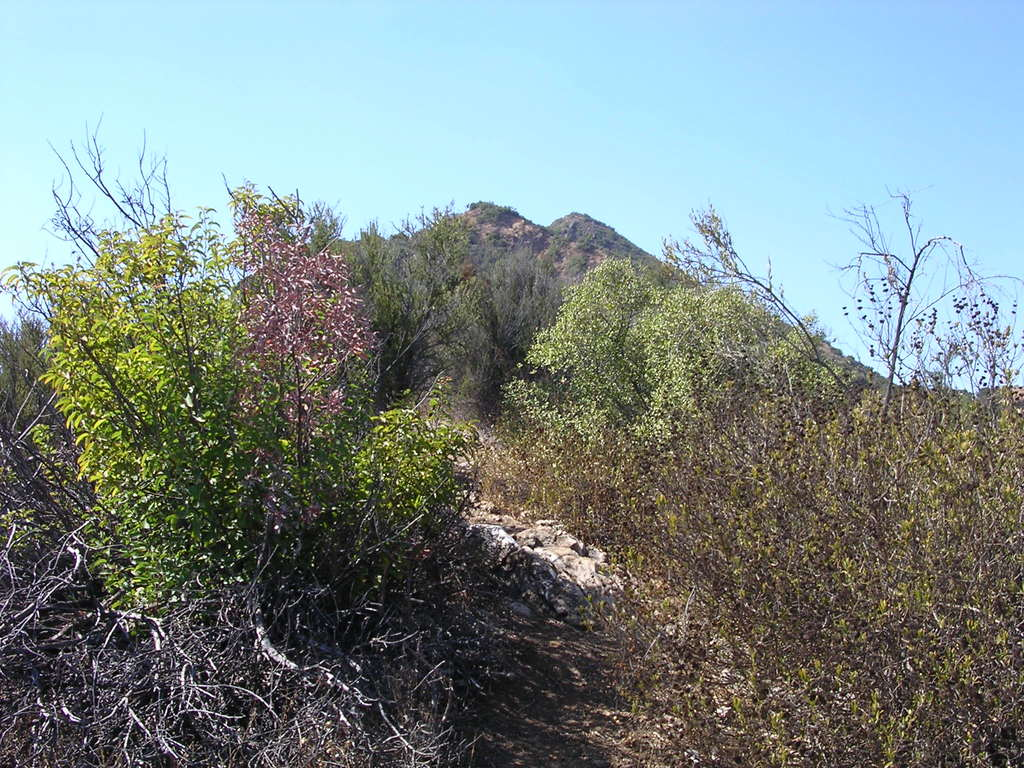Tree: (512, 178, 1023, 767), (28, 157, 455, 753), (271, 147, 561, 457), (498, 256, 764, 447)
